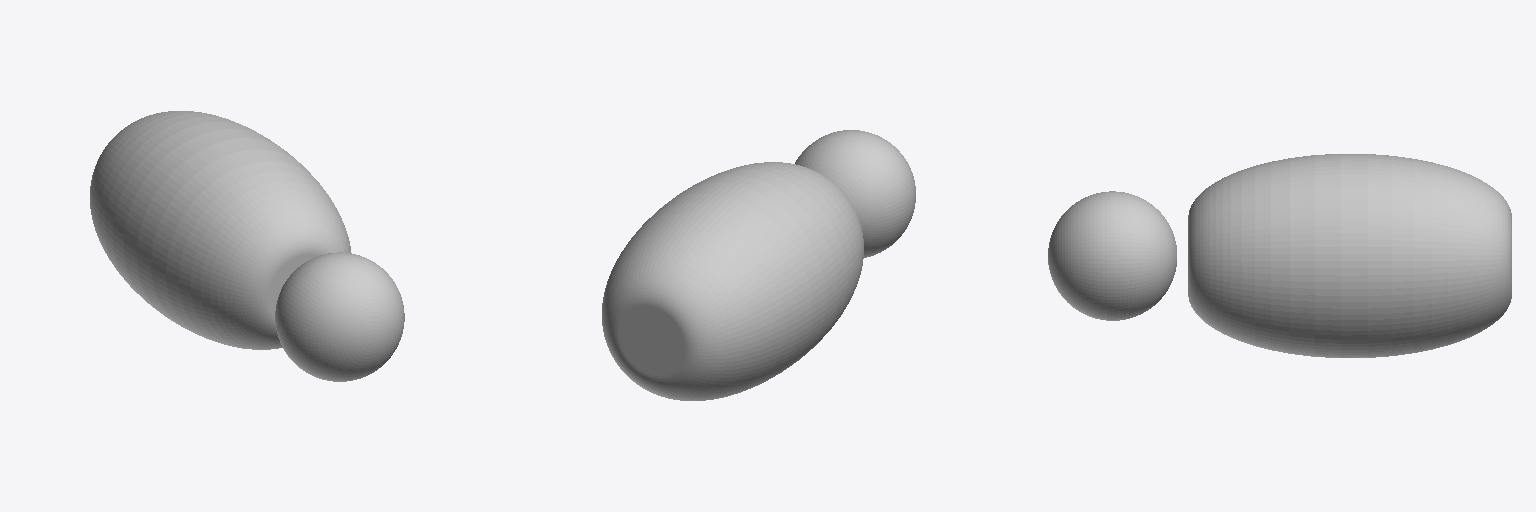
Rendered from person.obj.
The picture shows the model from 3 angles: view 1: azimuth 30°, elevation 25°; view 2: azimuth 150°, elevation 25°; view 3: azimuth 270°, elevation 25°; orthographic projection.
Visible parts, largest first — view 1: person; view 2: person; view 3: person.
Part boxes in pixels (x1,y1,x2,y2): person: (90, 111, 404, 381); person: (602, 130, 915, 400); person: (1048, 154, 1511, 357).
Bounding box in the file's own units: 1.9 × 1.9 × 4.3.